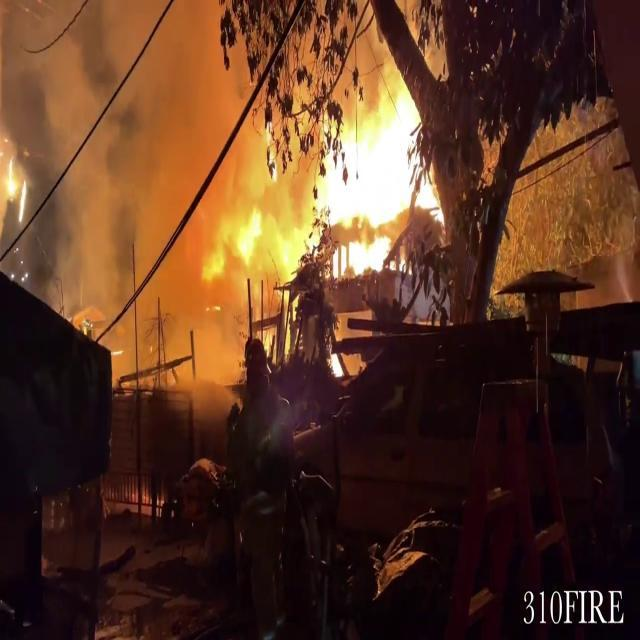Fire: (260, 52, 432, 278)
Smoke: (0, 0, 236, 368)
